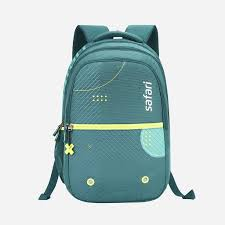backpack: (37, 23, 195, 203)
